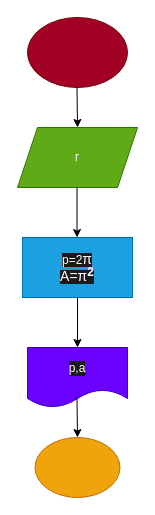
Some shapes in this 155 by 515 pixel diagram are drawn without their labels. Here are the shapes that lost their labels. From the top down, the centre of each, then its label:
At point (77, 52): "INICIO".
At point (77, 467): "FIN".
